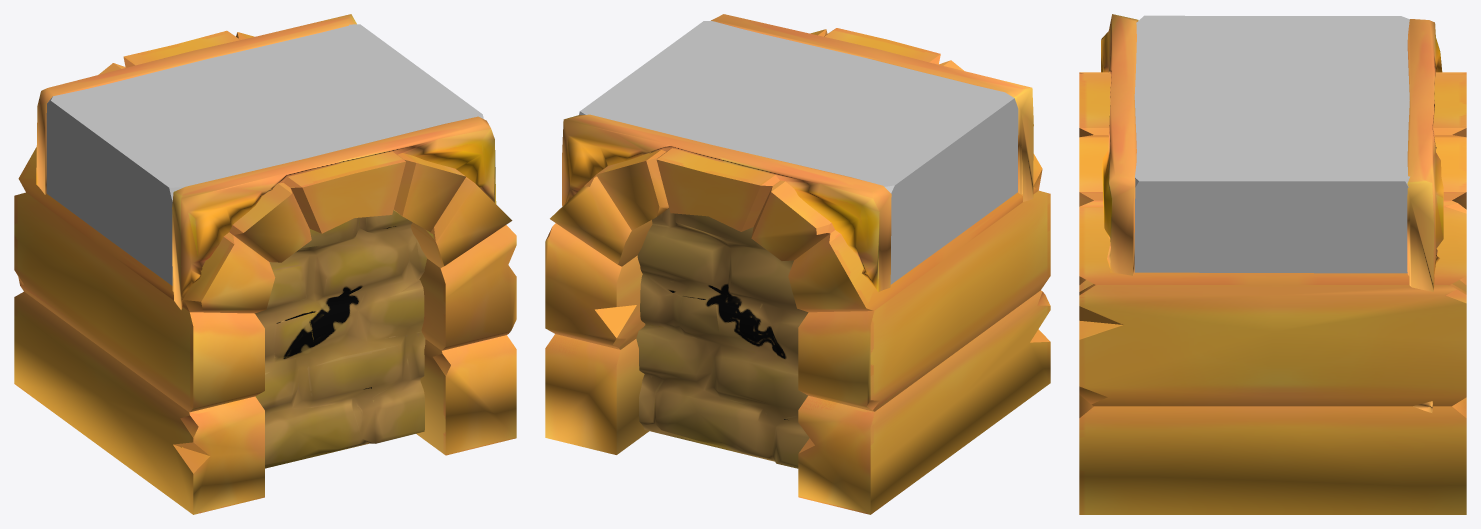
Rendered from door_and_ceva.fbx.
The picture shows the model from 3 angles, left to right: view 1: azimuth 30°, elevation 25°; view 2: azimuth 150°, elevation 25°; view 3: azimuth 270°, elevation 25°; orthographic projection. The views are drawn at different scales.
Parts seen in each view (by area): view 1: door, wall_low2.003; view 2: door, wall_low2.003; view 3: door.
Part boxes in pixels (left/top/right/bottom): door: left=14, top=14, right=516, bottom=514; wall_low2.003: left=255, top=210, right=426, bottom=468; door: left=545, top=14, right=1050, bottom=514; wall_low2.003: left=636, top=208, right=809, bottom=468; door: left=1079, top=14, right=1466, bottom=514.
Size of the model in its own units: 264 by 240 by 253.
